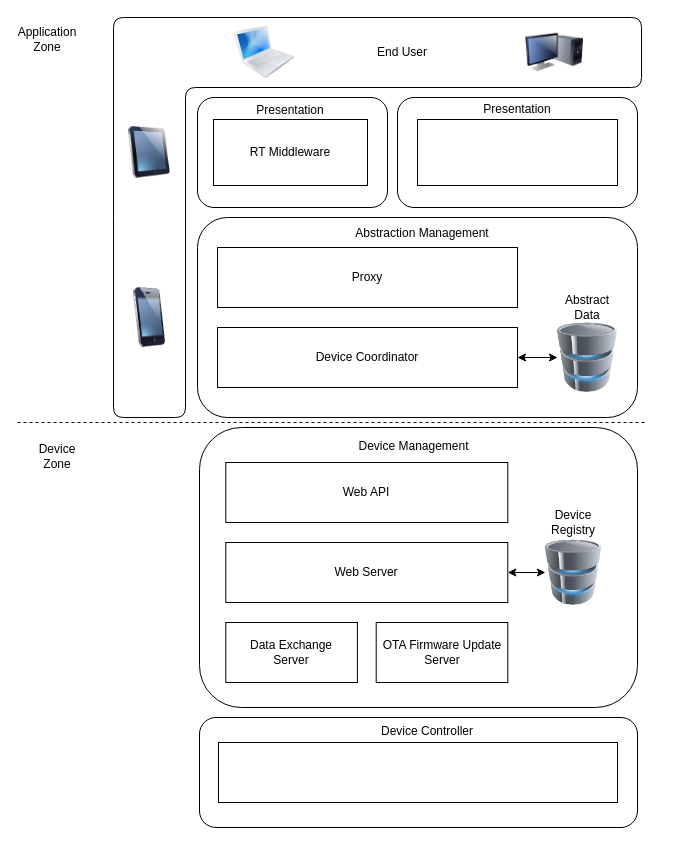
Image size: 675x845. Some labels were removed from this diagram. The centre of each missing label's shape, as x and y in pixels:
"Edge Device" belongs at point 418,772.
"Web Application" belongs at point 517,152.
